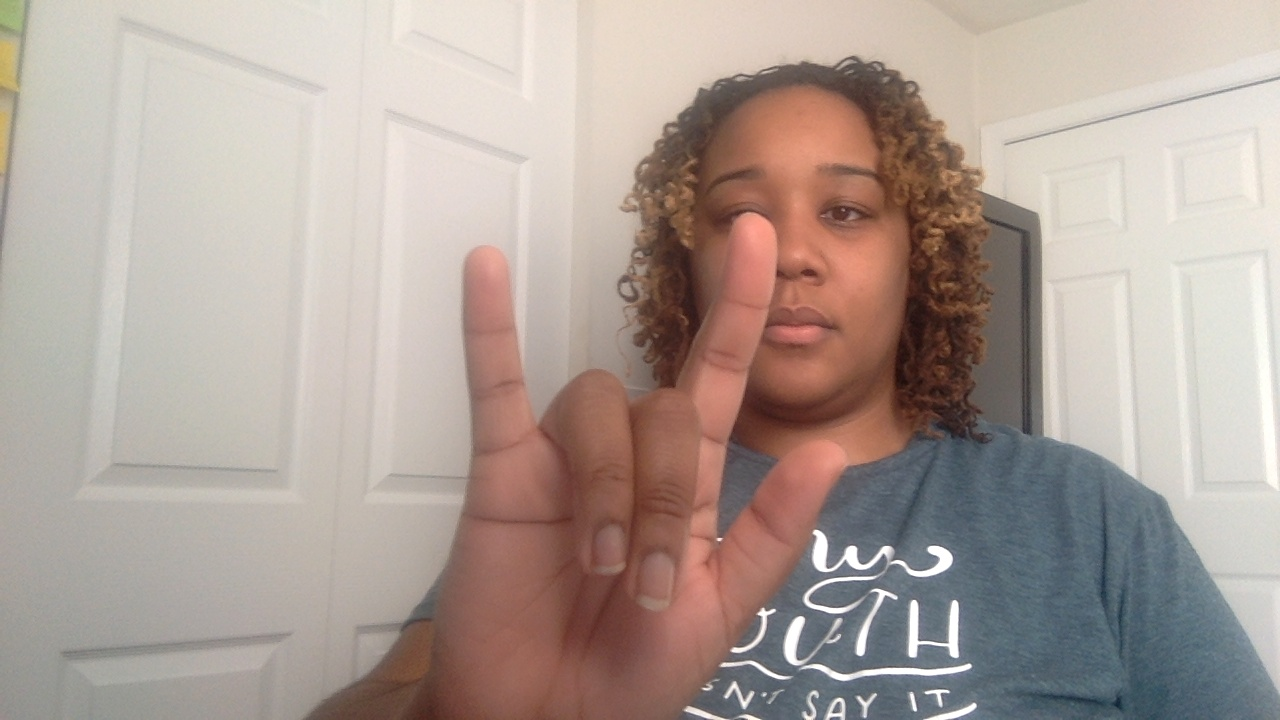i_love_you: (407, 54, 1000, 720)
